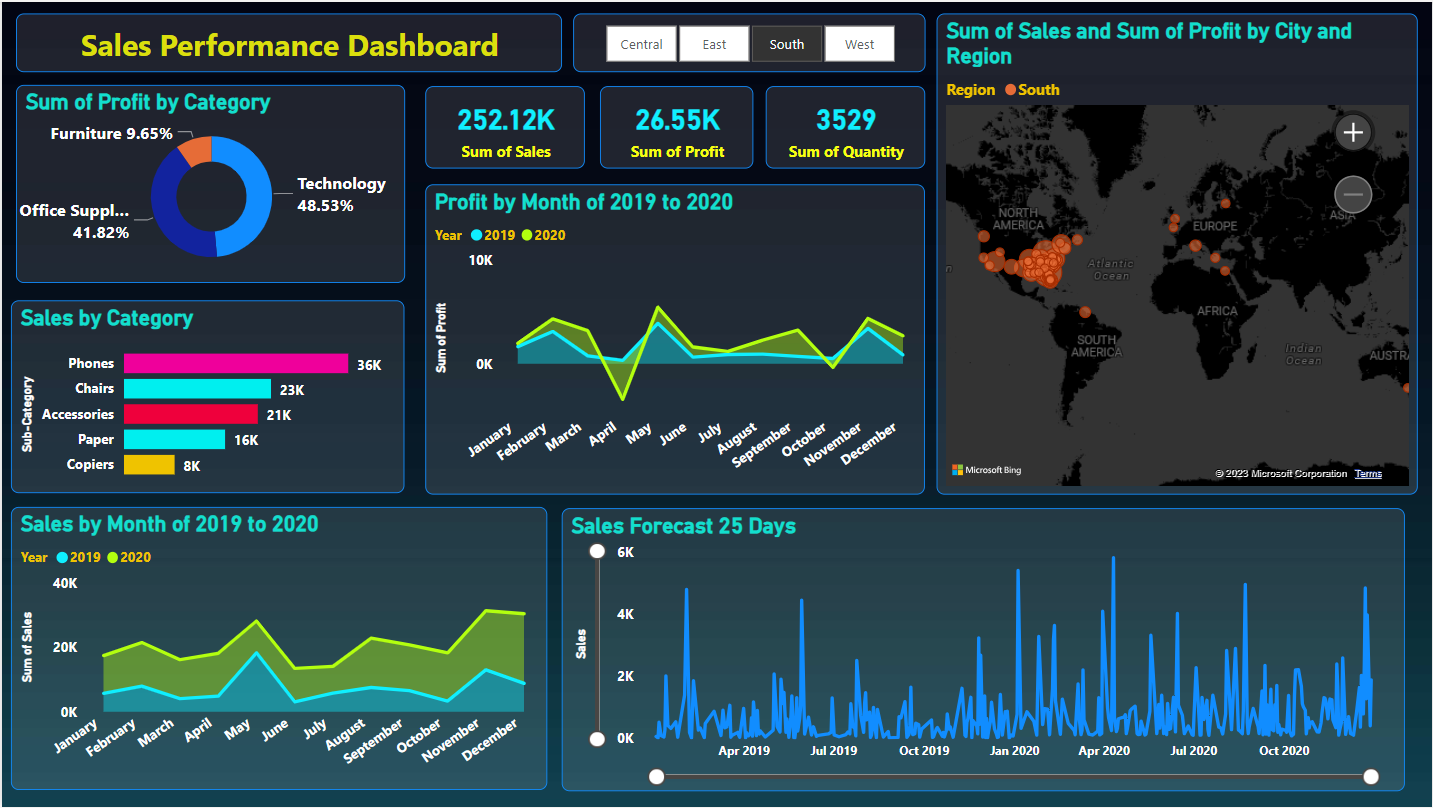

The page's visual inventory and layout, read from the dashboard file:
{"tool":"powerbi","page":{"name":"Page 1","canvas":[1280,720],"ordinal":0},"visuals":[{"type":"clusteredBarChart","title":"Sales by Category","fields":{"Category":["SuperStore_Sales_Dataset.Sub-Category"],"Y":["Sum(SuperStore_Sales_Dataset.Sales)"]},"box":[8.5,267.5,352.4,172.7],"z":0},{"type":"stackedAreaChart","title":"Profit by Month of 2019 to 2020","fields":{"Category":["SuperStore_Sales_Dataset.Order Date.Variation.Date Hierarchy.Month","SuperStore_Sales_Dataset.Order Date.Variation.Date Hierarchy.Day"],"Series":["SuperStore_Sales_Dataset.Order Date.Variation.Date Hierarchy.Year"],"Y":["Sum(SuperStore_Sales_Dataset.Profit)"]},"box":[379.3,162.8,447.3,277.4],"z":1000},{"type":"stackedAreaChart","title":"Sales by Month of 2019 to 2020","fields":{"Category":["SuperStore_Sales_Dataset.Order Date.Variation.Date Hierarchy.Month","SuperStore_Sales_Dataset.Order Date.Variation.Date Hierarchy.Day"],"Series":["SuperStore_Sales_Dataset.Order Date.Variation.Date Hierarchy.Year"],"Y":["Sum(SuperStore_Sales_Dataset.Sales)"]},"box":[8.5,451.5,479.8,253.4],"z":2000},{"type":"map","fields":{"Category":["SuperStore_Sales_Dataset.City"],"Size":["Sum(SuperStore_Sales_Dataset.Sales)"],"Series":["SuperStore_Sales_Dataset.Region"]},"box":[836.5,9.9,430.3,430.3],"z":3000},{"type":"donutChart","fields":{"Y":["Sum(SuperStore_Sales_Dataset.Profit)"],"Category":["SuperStore_Sales_Dataset.Category"]},"box":[12.7,73.6,348.2,176.9],"z":4000},{"type":"textbox","box":[12.7,9.9,488.3,52.4],"z":5000},{"type":"slicer","fields":{"Values":["SuperStore_Sales_Dataset.Region"]},"box":[511,9.9,315.6,52.4],"z":6000},{"type":"card","fields":{"Values":["Sum(SuperStore_Sales_Dataset.Sales)"]},"box":[379.3,75,143,73.6],"z":7000},{"type":"card","fields":{"Values":["Sum(SuperStore_Sales_Dataset.Profit)"]},"box":[535,75,137.3,73.6],"z":8000},{"type":"card","fields":{"Values":["Sum(SuperStore_Sales_Dataset.Quantity)"]},"box":[683.7,75,143,73.6],"z":9000},{"type":"lineChart","title":"Sales Forecast 25 Days","fields":{"Category":["SuperStore_Sales_Dataset.Order Date"],"Y":["Sum(SuperStore_Sales_Dataset.Sales)"]},"box":[500.9,451.8,765.6,253.3],"z":10000}]}

Visuals, with their boxes in screenshot pixels (x1, y1, x2, y2), scaled from the page's 1280x720 canvas onto the 1433x808 screenshot:
"Sales by Category" clusteredBarChart: rect(10, 300, 404, 494)
"Profit by Month of 2019 to 2020" stackedAreaChart: rect(425, 183, 925, 494)
"Sales by Month of 2019 to 2020" stackedAreaChart: rect(10, 507, 547, 791)
map - SuperStore_Sales_Dataset.City x Sum(SuperStore_Sales_Dataset.Sales): rect(936, 11, 1418, 494)
donutChart - Sum(SuperStore_Sales_Dataset.Profit) x SuperStore_Sales_Dataset.Category: rect(14, 83, 404, 281)
textbox: rect(14, 11, 561, 70)
slicer - SuperStore_Sales_Dataset.Region: rect(572, 11, 925, 70)
card - Sum(SuperStore_Sales_Dataset.Sales): rect(425, 84, 585, 167)
card - Sum(SuperStore_Sales_Dataset.Profit): rect(599, 84, 753, 167)
card - Sum(SuperStore_Sales_Dataset.Quantity): rect(765, 84, 926, 167)
"Sales Forecast 25 Days" lineChart: rect(561, 507, 1418, 791)
